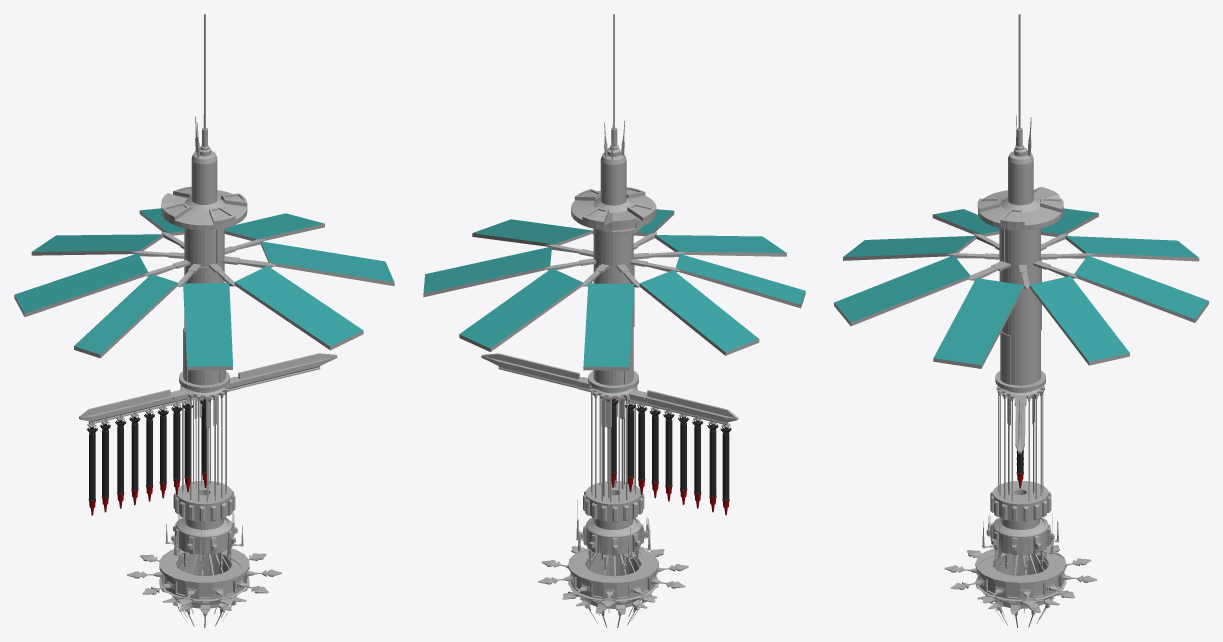
The model's file is base espacial obj.obj.
3 renders of one model, left to right at view 1: azimuth 30°, elevation 25°; view 2: azimuth 150°, elevation 25°; view 3: azimuth 270°, elevation 25°, orthographic.
Visible parts, largest first — view 1: Cilindro, Cilindro.008_Cilindro.036, Cilindro.005_Cilindro.033, Cilindro.002_Cilindro.032, Cilindro.004_Cilindro.021, Cilindro.007_Cilindro.035, Cilindro.006_Cilindro.034, Cilindro.001_Cilindro.031, Cilindro.009_Cilindro.037; view 2: Cilindro, Cilindro.001_Cilindro.031, Cilindro.006_Cilindro.034, Cilindro.004_Cilindro.021, Cilindro.008_Cilindro.036, Cilindro.007_Cilindro.035, Cilindro.002_Cilindro.032, Cilindro.005_Cilindro.033, Cilindro.009_Cilindro.037; view 3: Cilindro.
Boxes of the visible parts, x1,y1,x2,y2 form: Cilindro: (14,14,394,627); Cilindro.008_Cilindro.036: (171,406,182,494); Cilindro.005_Cilindro.033: (129,416,140,505); Cilindro.002_Cilindro.032: (115,420,126,508); Cilindro.004_Cilindro.021: (86,427,97,515); Cilindro.007_Cilindro.035: (157,409,168,498); Cilindro.006_Cilindro.034: (144,413,154,501); Cilindro.001_Cilindro.031: (100,424,110,512); Cilindro.009_Cilindro.037: (182,403,193,492); Cilindro: (423,14,805,627); Cilindro.001_Cilindro.031: (707,424,718,512); Cilindro.006_Cilindro.034: (663,413,674,501); Cilindro.004_Cilindro.021: (720,427,731,515); Cilindro.008_Cilindro.036: (636,406,647,494); Cilindro.007_Cilindro.035: (649,410,660,498); Cilindro.002_Cilindro.032: (692,420,703,508); Cilindro.005_Cilindro.033: (678,417,689,504); Cilindro.009_Cilindro.037: (625,404,635,491); Cilindro: (834,14,1208,627).
Size of the model in its own units: 8.2 by 14.67 by 8.22.
